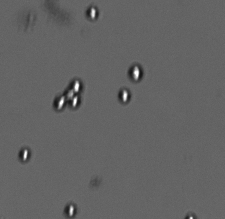Living Cell: (127, 61, 143, 84), (116, 85, 132, 105), (51, 93, 66, 113), (66, 76, 82, 93), (84, 4, 100, 21), (17, 146, 31, 163), (63, 202, 78, 217), (70, 94, 82, 109)
